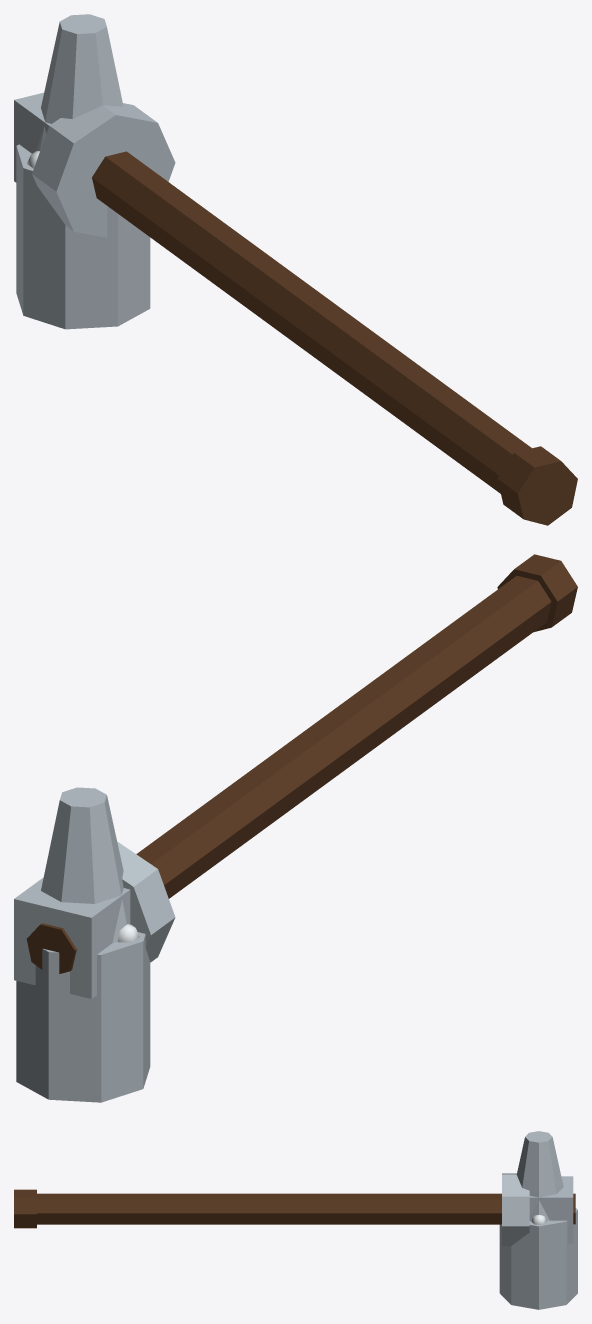
The model's file is Tool_Hammer_Steel.fbx.
3 views of the same model, one above another, from view 1: azimuth 30°, elevation 25°; view 2: azimuth 150°, elevation 25°; view 3: azimuth 270°, elevation 25° (orthographic). The views are drawn at different scales.
Visible parts, largest first — view 1: Tool_Hammer_Steel; view 2: Tool_Hammer_Steel; view 3: Tool_Hammer_Steel.
Boxes of the visible parts, left/top/right/bottom form: Tool_Hammer_Steel: left=14, top=14, right=577, bottom=525; Tool_Hammer_Steel: left=14, top=554, right=577, bottom=1102; Tool_Hammer_Steel: left=14, top=1131, right=577, bottom=1309.
Bounding box in the file's own units: 0.034 × 0.0772 × 0.245.
